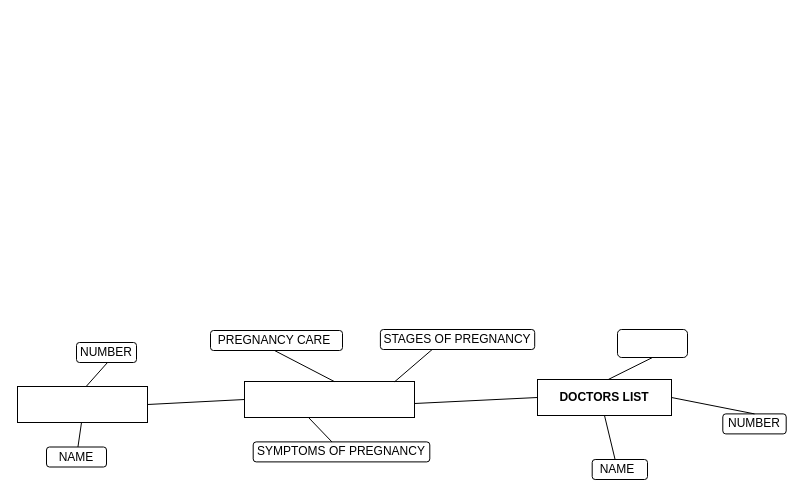
Image size: 809x497. Some labels were removed from this diagram. The box of each missing label's shape, as (x1, y1, x2, y2) in pixels:
ADDRESS: (616, 328, 688, 358)
MIDWIFE LIST: (16, 386, 148, 422)
PREGNANCY CARE APP: (244, 380, 414, 418)
